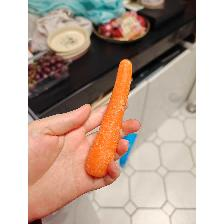Karotte: (86, 58, 134, 178)
